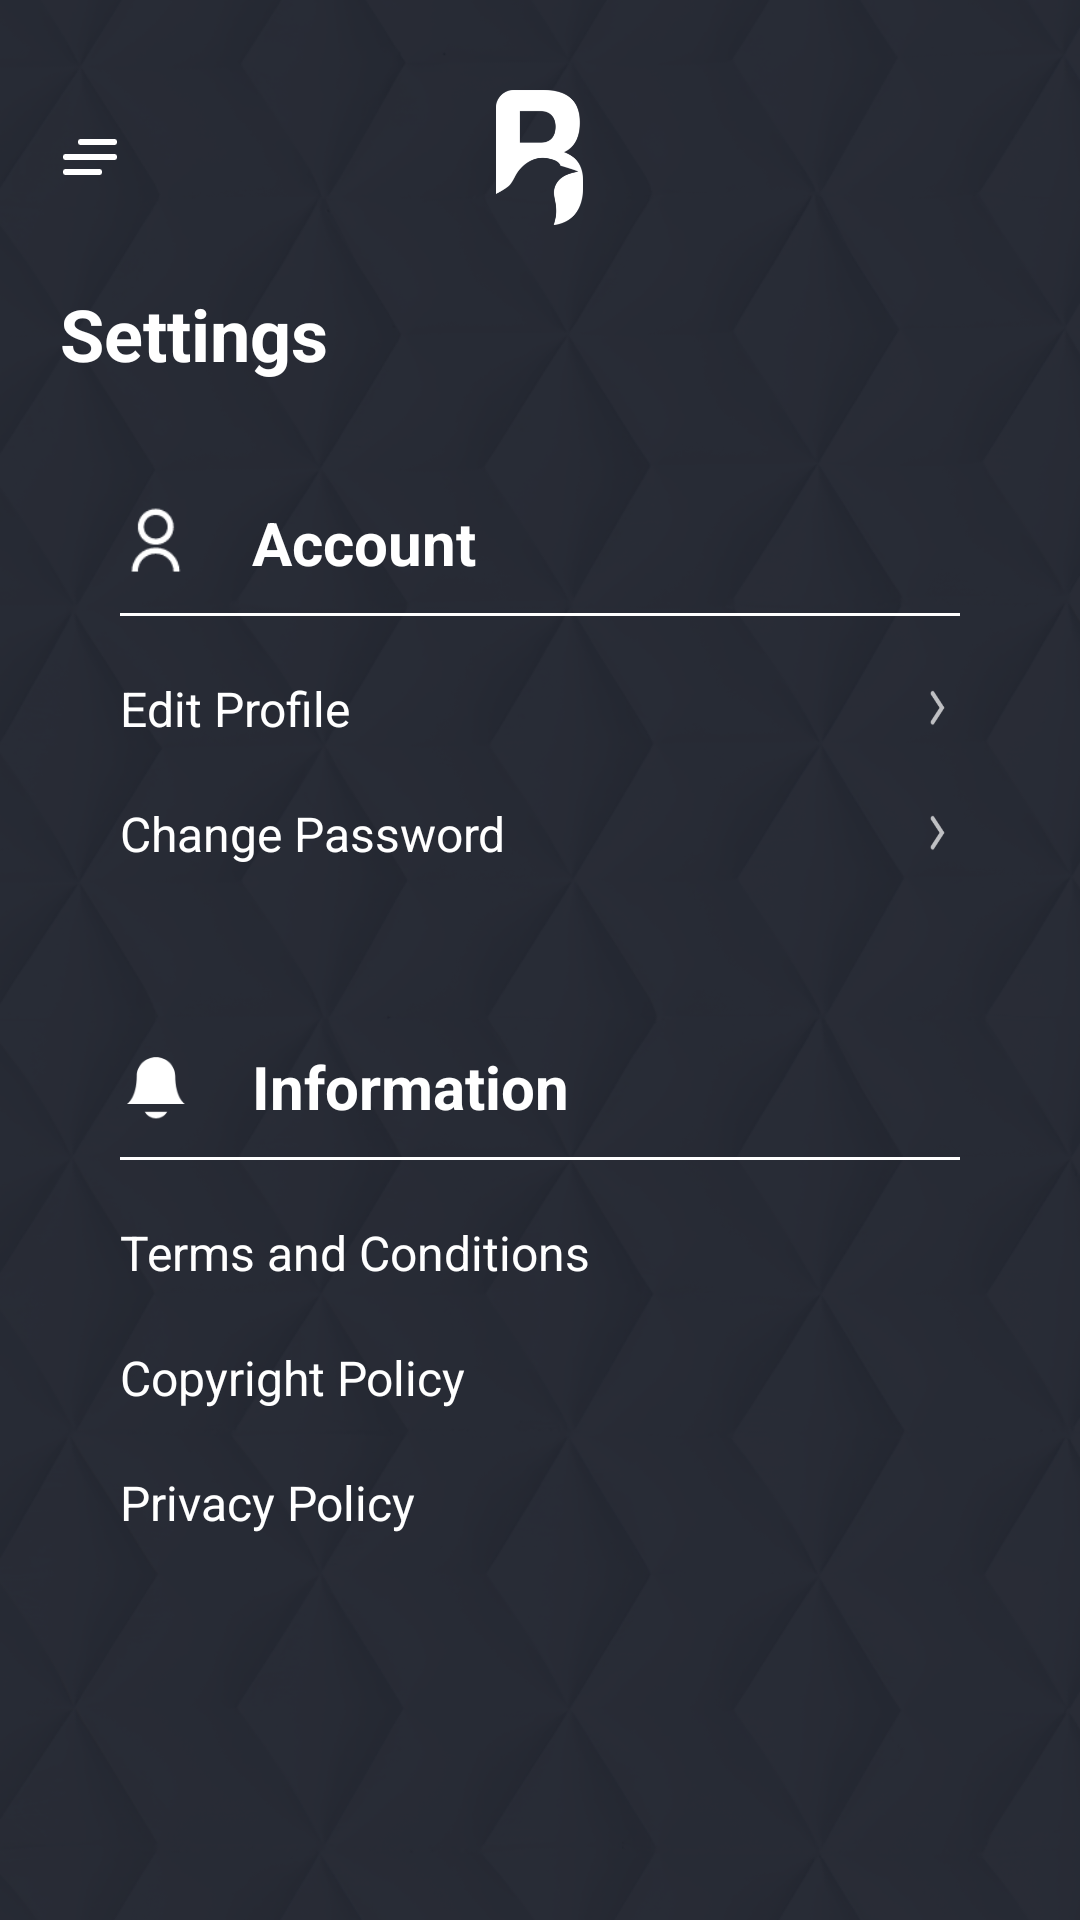

Icons on this 1080px×1920px Android screen, each with its box as (x1, y1, x2, y2):
leftmenu: (63, 139, 117, 175)
notification: (127, 1057, 185, 1119)
user: (131, 508, 180, 572)
